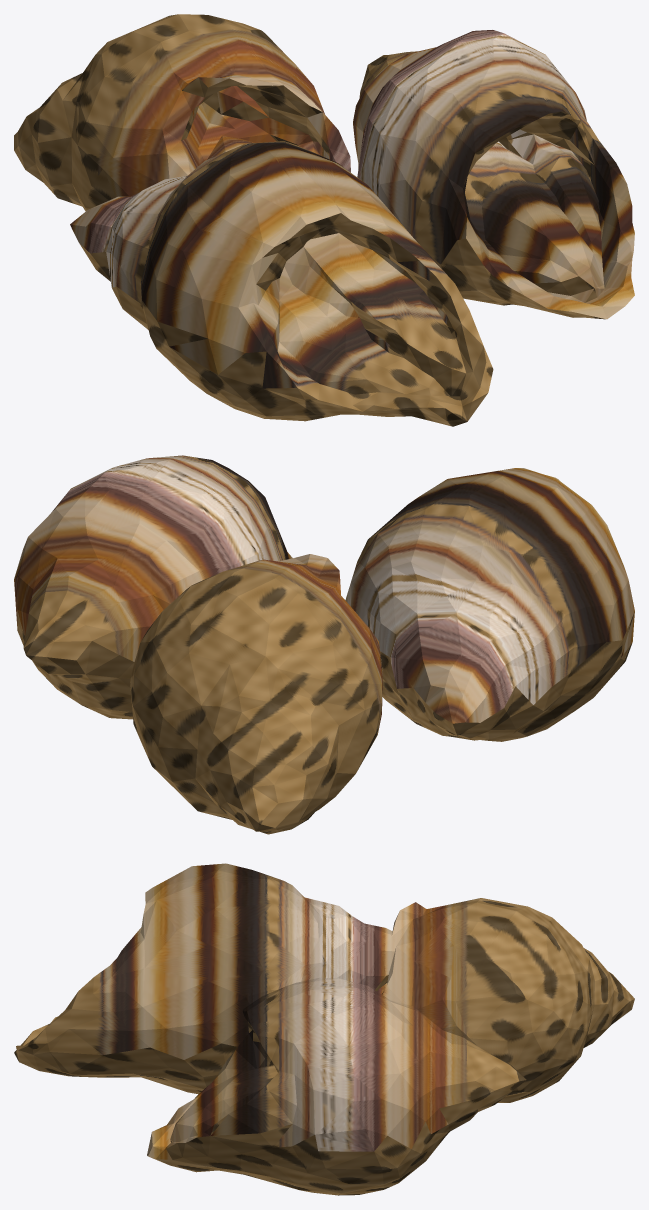
File: fish_oc_huong_reduced.glb
The picture shows the model from 3 angles, top to bottom: view 1: azimuth 30°, elevation 25°; view 2: azimuth 150°, elevation 25°; view 3: azimuth 270°, elevation 25°; orthographic projection. The views are drawn at different scales.
Visible parts, largest first — view 1: CoveredSurface; view 2: CoveredSurface; view 3: CoveredSurface.
Part boxes in pixels (box(x1,y1,x2,y2)): CoveredSurface: box(14, 14, 634, 426); CoveredSurface: box(14, 455, 634, 834); CoveredSurface: box(14, 863, 634, 1195).
Bounding box in the file's own units: 1.54 × 0.7375 × 1.99.
Materials: 1 (1 with a texture image).
